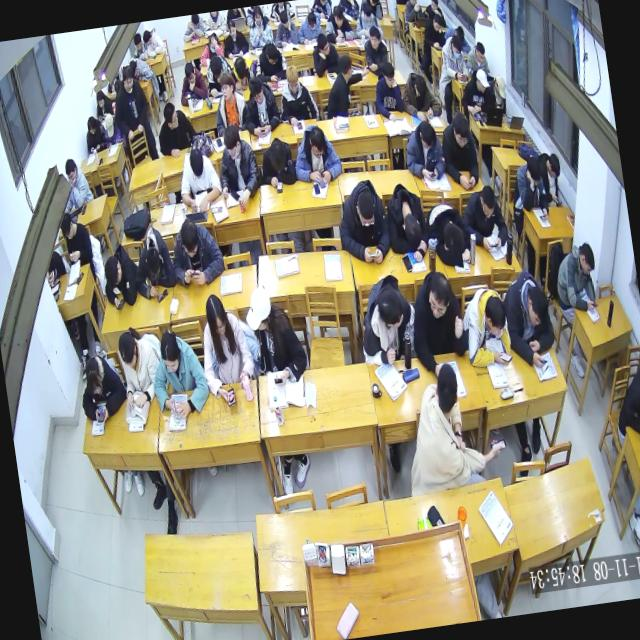bow: (499, 268, 558, 370), (456, 282, 514, 368), (168, 215, 226, 289), (382, 180, 431, 265), (75, 350, 128, 422), (130, 225, 178, 298), (423, 199, 471, 268), (98, 244, 144, 312), (399, 67, 443, 123), (256, 134, 296, 188), (322, 2, 356, 42), (196, 30, 225, 66), (229, 55, 257, 92), (296, 8, 324, 44), (128, 54, 155, 82)
down: (525, 284, 551, 328), (157, 329, 180, 375), (202, 292, 226, 336), (178, 217, 201, 258), (116, 331, 138, 369), (354, 189, 376, 227), (451, 110, 471, 148), (222, 124, 243, 160), (84, 358, 104, 395), (102, 254, 124, 286), (143, 242, 163, 276), (308, 122, 328, 156), (478, 185, 497, 219), (578, 242, 596, 277), (524, 156, 542, 187), (417, 120, 435, 150), (268, 137, 286, 167), (188, 148, 206, 178), (248, 76, 264, 106), (59, 210, 75, 240), (413, 71, 429, 100), (381, 59, 396, 89), (284, 64, 300, 92), (208, 53, 224, 81), (548, 151, 562, 180), (493, 74, 508, 100), (64, 158, 79, 184), (476, 68, 490, 94), (233, 56, 248, 80), (449, 34, 464, 58), (103, 112, 116, 138), (264, 42, 278, 66), (122, 63, 134, 90), (182, 62, 195, 85), (332, 2, 344, 26), (474, 39, 486, 62), (251, 6, 263, 27), (362, 1, 374, 22), (306, 10, 318, 30), (132, 32, 144, 52), (208, 32, 219, 52), (279, 10, 290, 30), (85, 114, 96, 134), (96, 88, 106, 110), (432, 14, 442, 34), (226, 20, 236, 39), (128, 58, 138, 76), (142, 30, 152, 47), (408, 0, 417, 5)
lookup: (218, 71, 238, 101)
sit: (396, 356, 510, 496), (194, 288, 258, 402), (242, 284, 310, 389), (404, 270, 468, 378), (146, 325, 212, 422), (354, 274, 421, 369), (333, 175, 392, 266), (108, 64, 158, 166), (214, 122, 264, 210), (116, 324, 163, 408), (550, 241, 600, 316), (320, 51, 375, 119), (438, 111, 482, 191), (288, 121, 342, 186), (460, 184, 510, 253), (175, 144, 224, 214), (402, 118, 446, 184), (208, 68, 250, 137), (274, 60, 318, 125), (238, 74, 282, 138), (154, 100, 199, 161), (512, 155, 550, 224), (370, 59, 406, 123), (59, 206, 95, 266), (60, 154, 94, 207), (457, 68, 493, 116), (438, 34, 471, 85), (536, 150, 566, 206), (202, 52, 235, 99), (176, 60, 209, 107), (309, 31, 341, 79), (252, 42, 288, 84), (362, 23, 390, 76), (220, 16, 250, 58), (245, 5, 274, 46), (351, 0, 382, 37), (269, 10, 298, 49), (82, 115, 108, 155), (464, 41, 490, 78), (486, 74, 508, 117), (421, 14, 446, 51), (141, 25, 167, 55), (94, 88, 115, 120), (421, 0, 446, 26), (403, 0, 424, 21)
